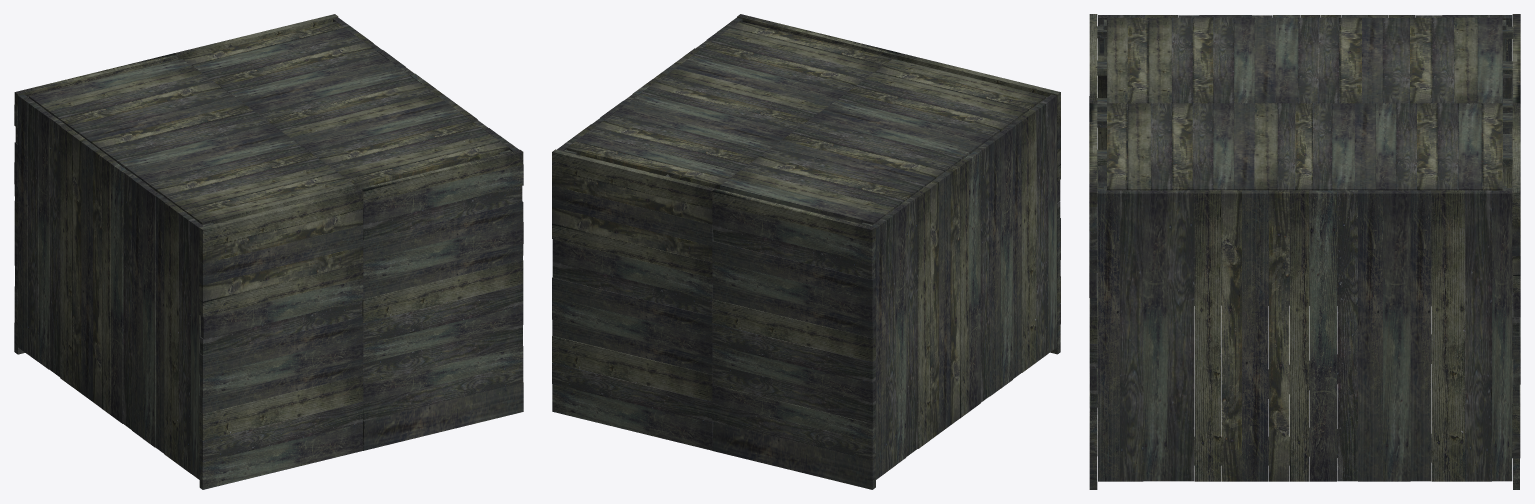
The model's file is OldWoodenArenaGates.fbx.
The picture shows the model from 3 angles, left to right: view 1: azimuth 30°, elevation 25°; view 2: azimuth 150°, elevation 25°; view 3: azimuth 270°, elevation 25°; orthographic projection. The views are drawn at different scales.
Parts seen in each view (by area): view 1: OldWoodenArenaGate, OldWoodenArenaGateExit, OldWoodenArenaGateEnter; view 2: OldWoodenArenaGate, OldWoodenArenaGateEnter, OldWoodenArenaGateExit; view 3: OldWoodenArenaGate, OldWoodenArenaGateExit, OldWoodenArenaGateEnter.
Boxes of the visible parts, x1,y1,x2,y2 form: OldWoodenArenaGate: (18, 17, 518, 479); OldWoodenArenaGateExit: (199, 149, 523, 489); OldWoodenArenaGateEnter: (14, 14, 338, 354); OldWoodenArenaGate: (557, 17, 1056, 479); OldWoodenArenaGateEnter: (552, 149, 875, 489); OldWoodenArenaGateExit: (737, 14, 1060, 354); OldWoodenArenaGate: (1097, 15, 1512, 481); OldWoodenArenaGateExit: (1089, 14, 1106, 489); OldWoodenArenaGateEnter: (1503, 14, 1520, 489).
Bounding box in the file's own units: 4 × 3.1 × 4.07.
